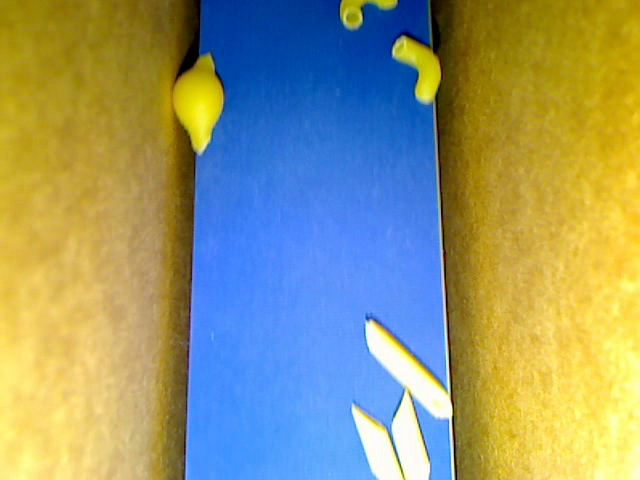elbow: (390, 35, 441, 103), (340, 1, 399, 31)
penne: (364, 317, 453, 419), (351, 403, 403, 479), (390, 389, 430, 479)
shell: (172, 50, 226, 155)
